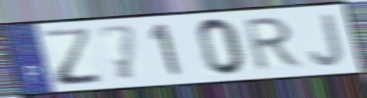0: (195, 17, 249, 78)
1: (148, 22, 184, 78)
7: (97, 22, 139, 84)
J: (307, 12, 346, 68)
R: (243, 15, 306, 74)
Z: (38, 25, 106, 88)
